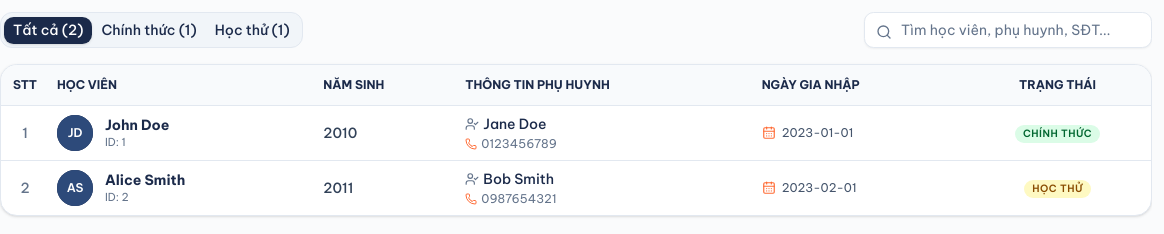
Test: StudentList › filters students by search term
The width and height of the screenshot is (1164, 234).
Type "Alice" into the field with placeholder "Tìm học viên, phụ huynh, SĐT..." at [1008, 30], box [864,12,1152,48]
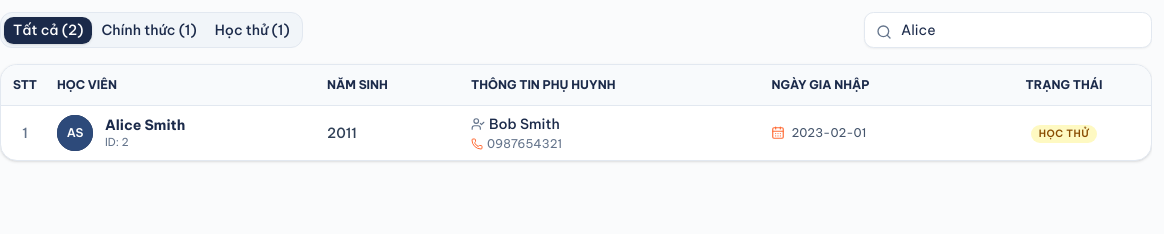
Check: the text "Alice Smith" is shown, box [105,115,185,135]
Check: the text "John Doe" is gone
